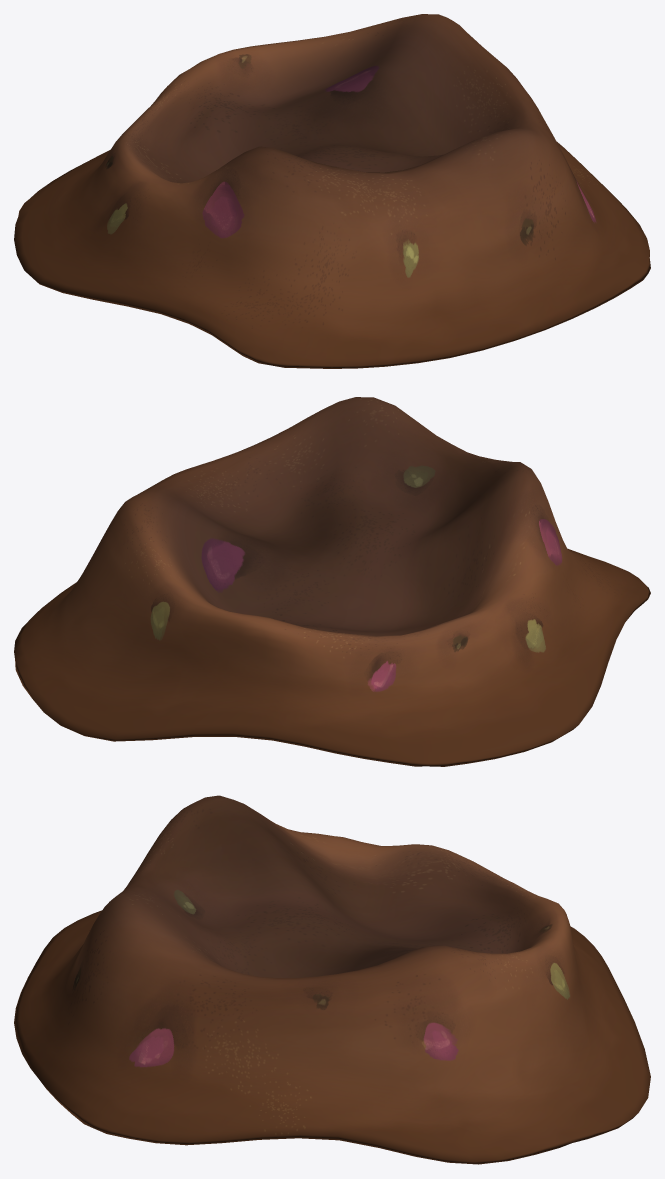
The model's file is MulchDepleted.fbx.
3 renders of one model, top to bottom at view 1: azimuth 30°, elevation 25°; view 2: azimuth 150°, elevation 25°; view 3: azimuth 270°, elevation 25°, orthographic. The views are drawn at different scales.
Visible parts, largest first — view 1: MulchDepleted; view 2: MulchDepleted; view 3: MulchDepleted.
Part boxes in pixels (box(x1,y1,x2,y2)): MulchDepleted: box(14, 14, 650, 368); MulchDepleted: box(14, 397, 650, 766); MulchDepleted: box(14, 795, 650, 1164).
Size of the model in its own units: 46.08 by 15.75 by 46.
Materials: 1 (1 with a texture image).
